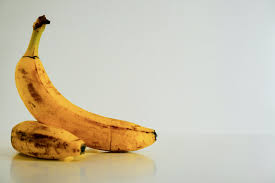banana: (7, 13, 159, 164), (6, 118, 89, 161)
